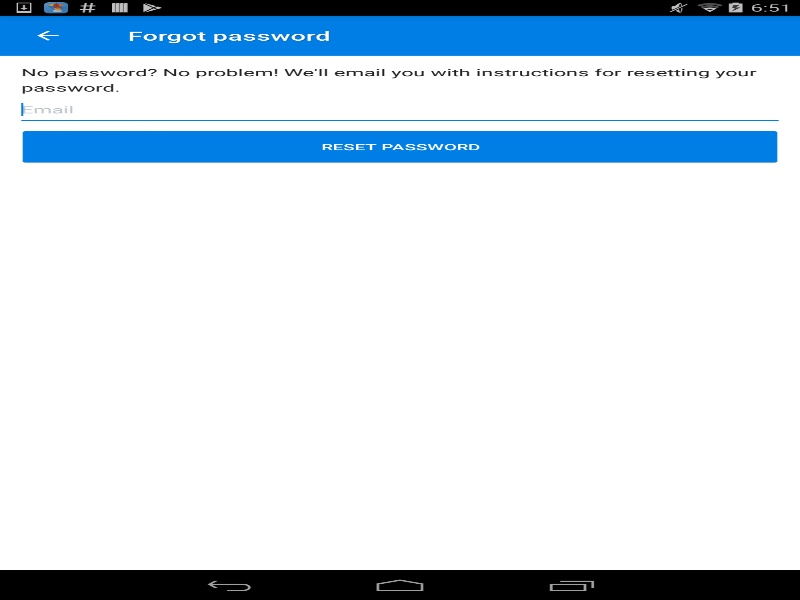Button: (21, 131, 778, 163), (10, 15, 85, 55)
Input: (21, 102, 778, 121)
